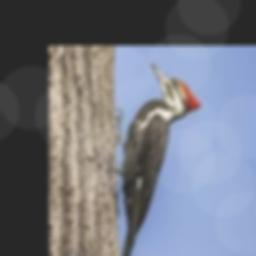Woodpecker: (114, 61, 201, 256)
